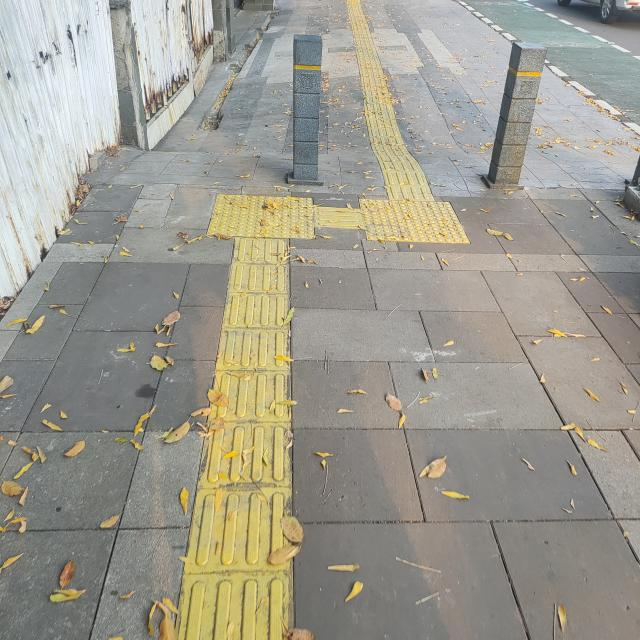lurus: (207, 229, 296, 640), (351, 0, 413, 192)
